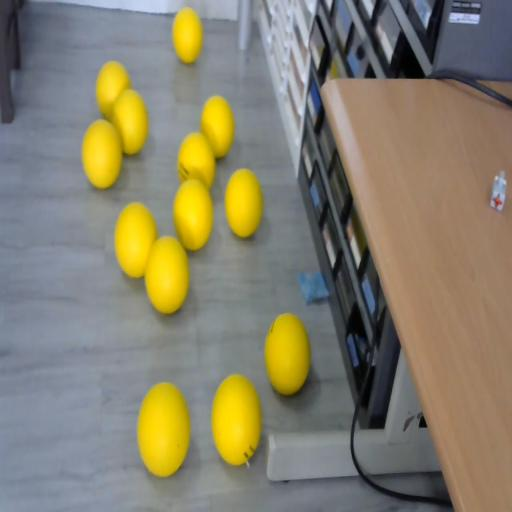FUEL: (136, 380, 192, 477), (210, 372, 262, 466), (264, 311, 310, 395), (144, 234, 190, 315), (114, 202, 157, 278), (173, 178, 214, 250), (82, 119, 123, 189), (224, 168, 263, 237), (111, 89, 149, 156), (200, 94, 234, 158), (172, 6, 202, 63)
